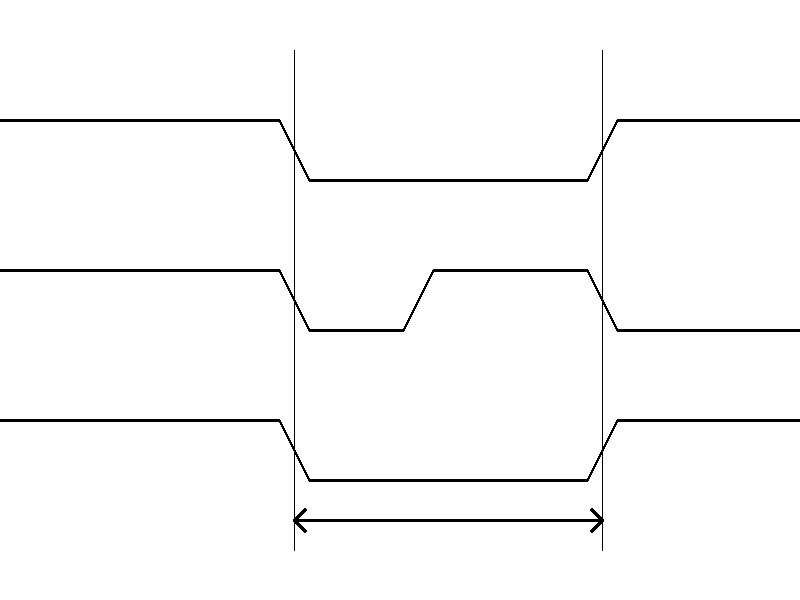double_arrow: (294, 505, 602, 535)
